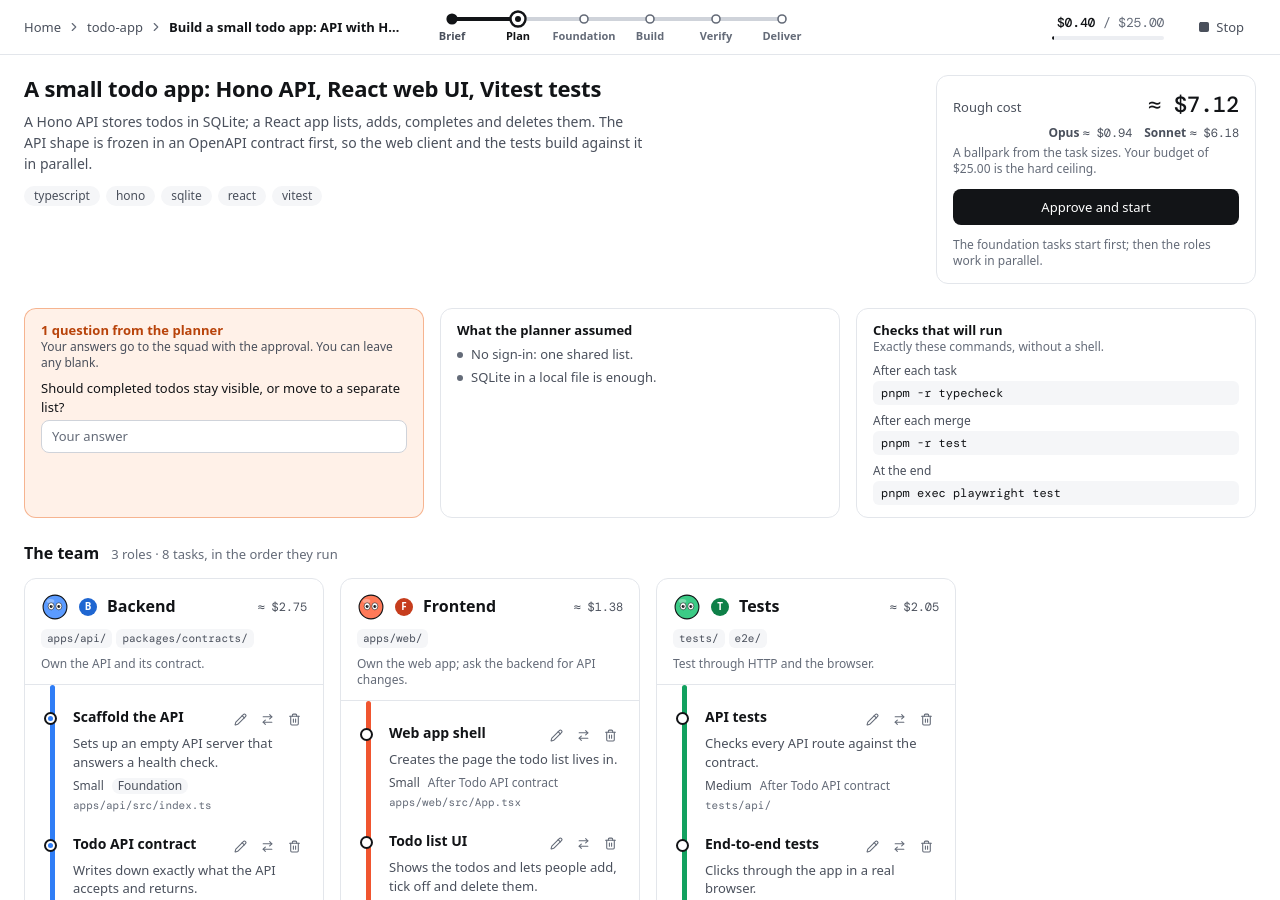
Test: Board › removes a task and frees the tasks that waited for it
Click the button named "Remove Web app shell". click: (610, 736)
box: left=598, top=724, right=623, bottom=748
(page scrolled)
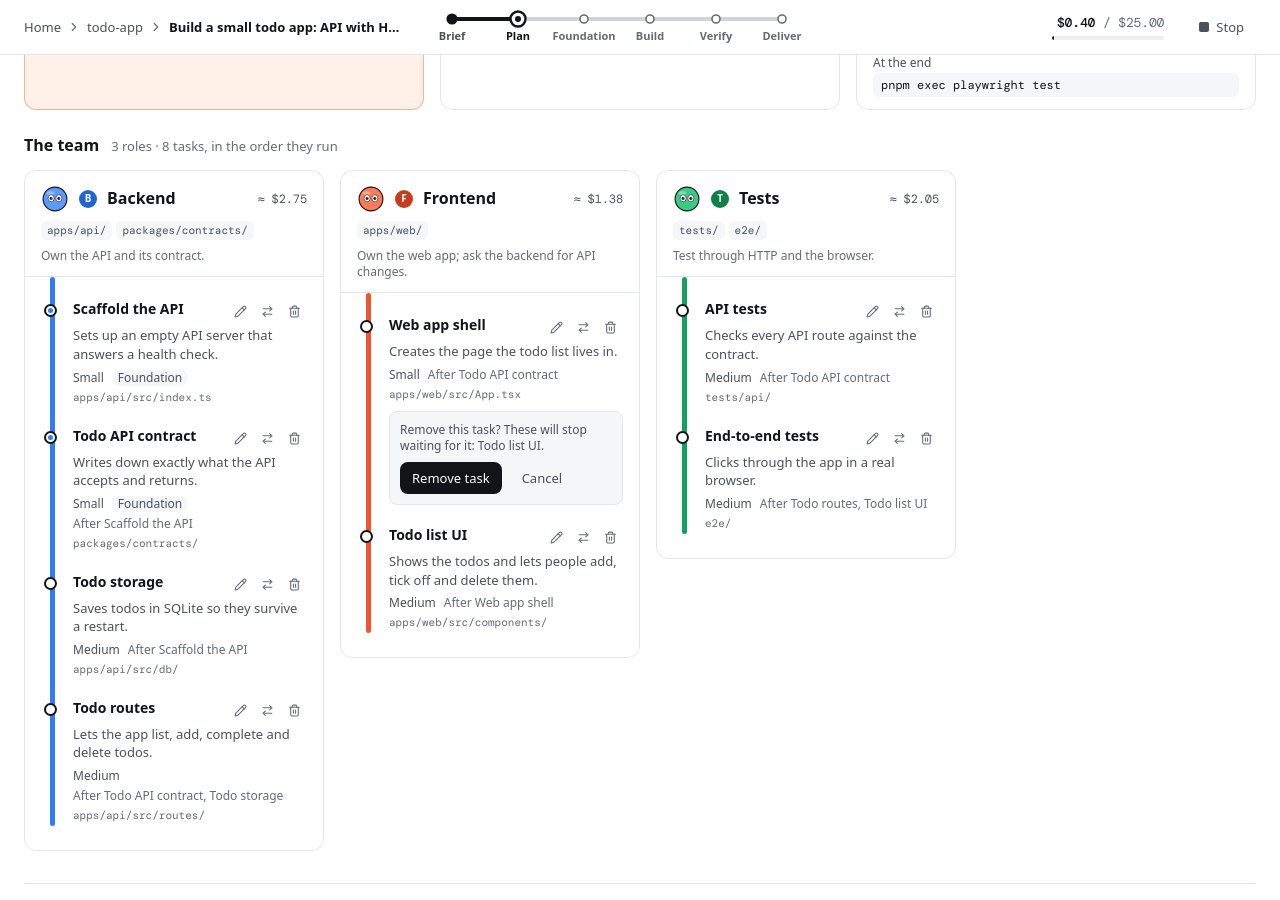
Now the text "These will stop waiting for it: Todo list UI" is shown, box left=400, top=421, right=587, bottom=454
Click the button "Remove task". click: (451, 478)
box: left=400, top=462, right=502, bottom=494
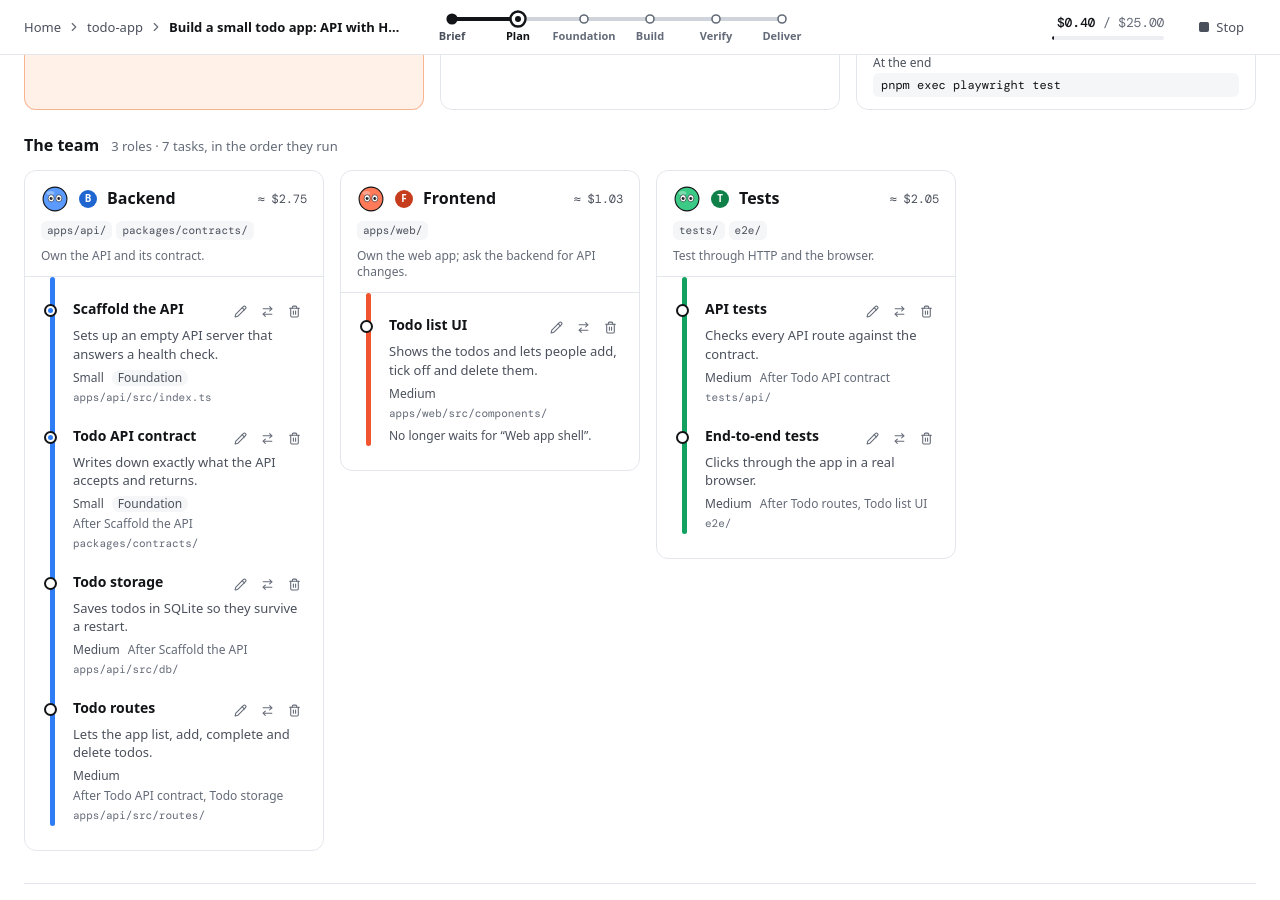
Now the text "No longer waits for “Web app shell”." is shown, box left=389, top=428, right=623, bottom=444
